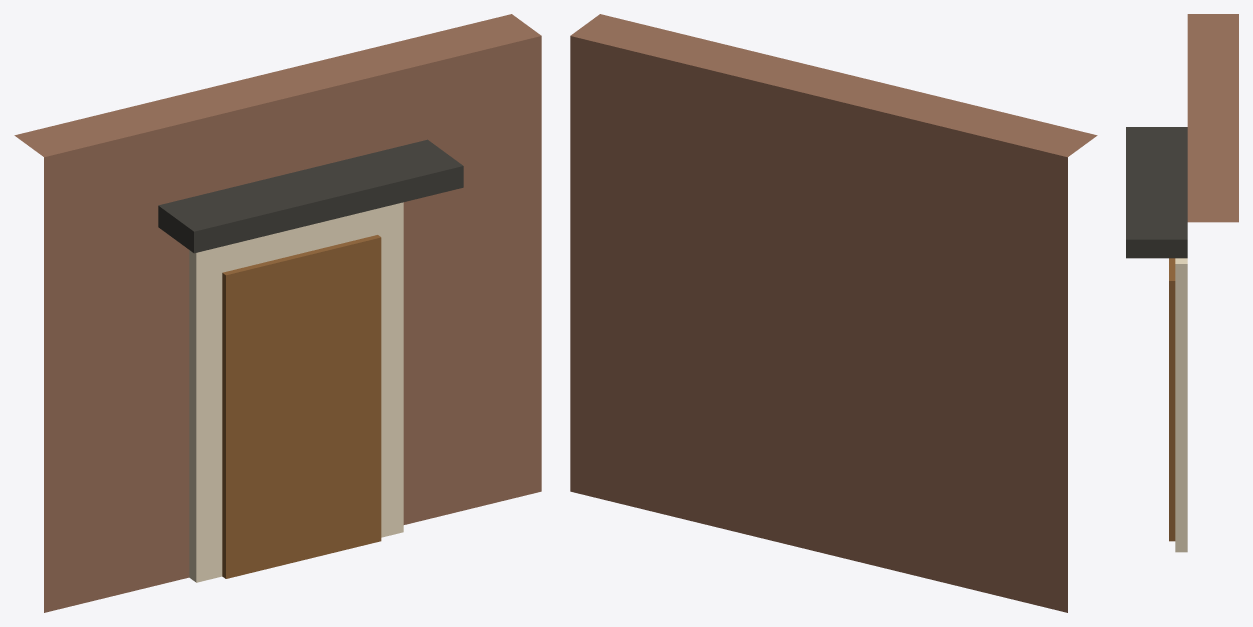
Rendered from dec_house_brick_door.glb.
The picture shows the model from 3 angles, left to right: view 1: azimuth 30°, elevation 25°; view 2: azimuth 150°, elevation 25°; view 3: azimuth 270°, elevation 25°; orthographic projection. The views are drawn at different scales.
Visible parts, largest first — view 1: dec_house_brick_door_mesh; view 2: dec_house_brick_door_mesh; view 3: dec_house_brick_door_mesh.
Part boxes in pixels (left/top/right/bottom): dec_house_brick_door_mesh: left=14, top=14, right=541, bottom=612; dec_house_brick_door_mesh: left=570, top=14, right=1097, bottom=612; dec_house_brick_door_mesh: left=1126, top=14, right=1238, bottom=552.
Bounding box in the file's own units: 0.48 × 0.42 × 0.11.
1 material, 1 textured.
